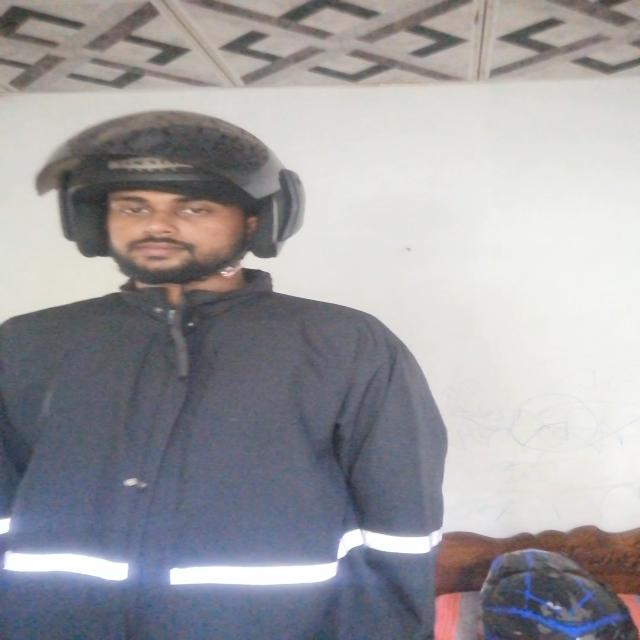Helmet_Wearer: (56, 108, 317, 298)
Jacket_Wearer: (15, 265, 475, 639)
Person: (6, 106, 459, 640)
